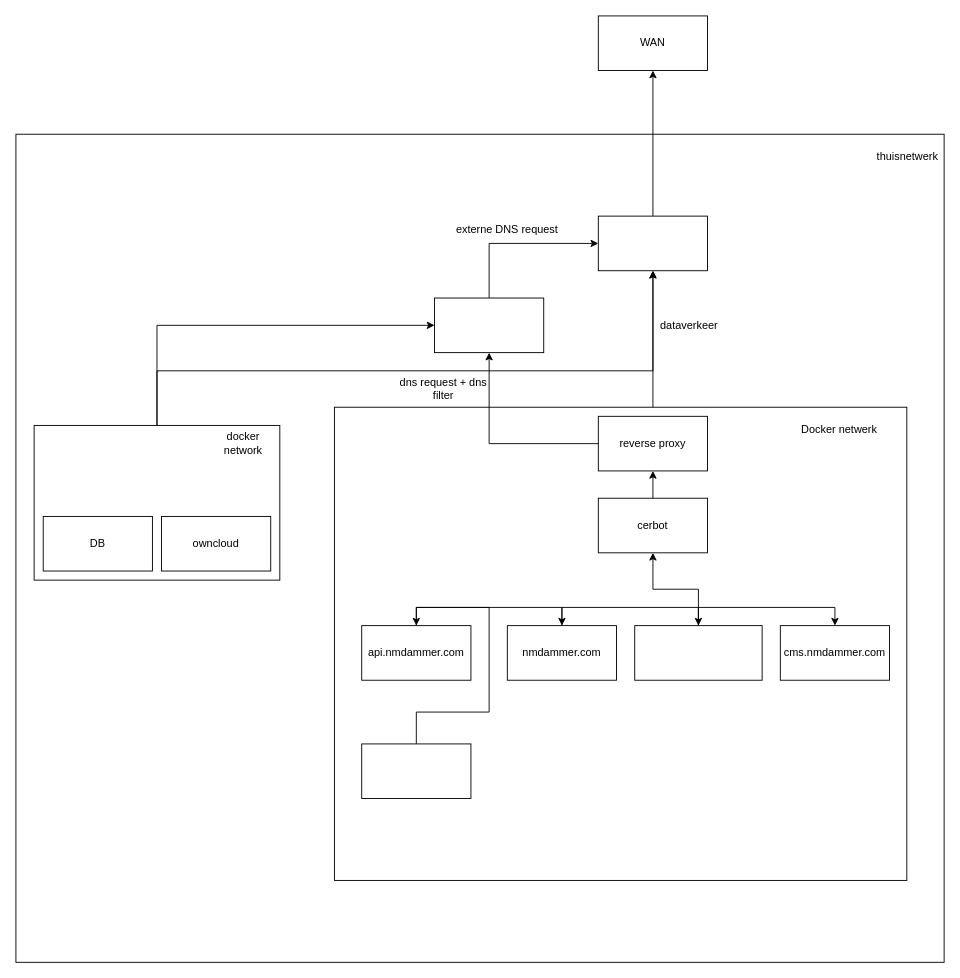
The diagram is 960 pixels wide and 978 high, and some of its shapes have lost their labels. The centre of each missing label's shape, as x and y in pixels:
"forum.nmdammer.com" belongs at point (698, 652).
"jenkins" belongs at point (416, 771).
"pihole" belongs at point (489, 325).
"router" belongs at point (652, 243).
